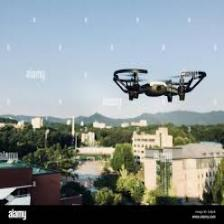drone: (124, 68, 186, 103)
